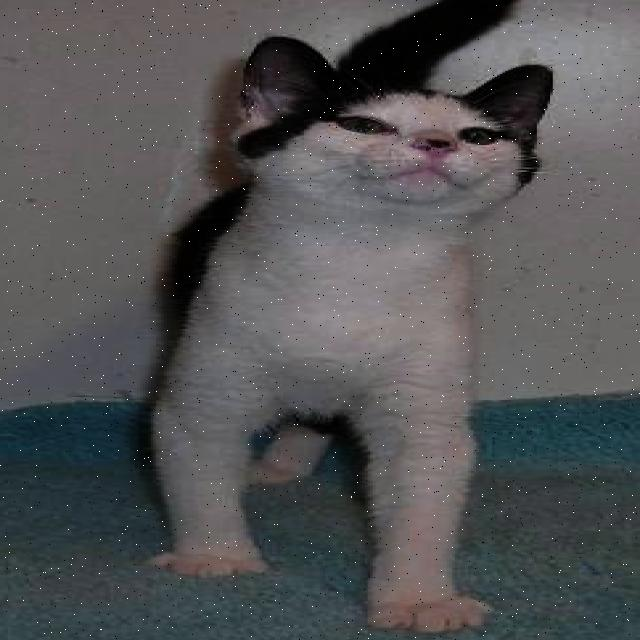Cat: (219, 30, 566, 238)
